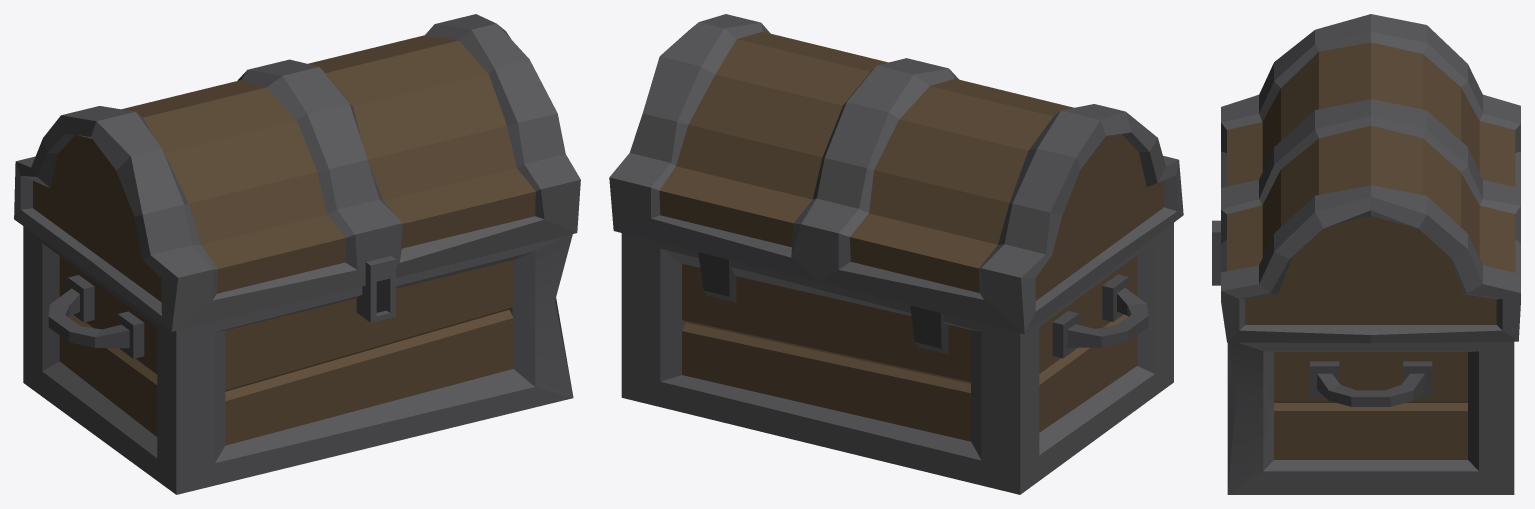
The model's file is SM_Prop_Chest_02.glb.
3 renders of one model, left to right at view 1: azimuth 30°, elevation 25°; view 2: azimuth 150°, elevation 25°; view 3: azimuth 270°, elevation 25°, orthographic. The views are drawn at different scales.
Parts seen in each view (by area): view 1: SM_Prop_Chest_Treasure_02; view 2: SM_Prop_Chest_Treasure_02; view 3: SM_Prop_Chest_Treasure_02.
Boxes of the visible parts, x1,y1,x2,y2 form: SM_Prop_Chest_Treasure_02: (14,14,580,494); SM_Prop_Chest_Treasure_02: (609,14,1183,494); SM_Prop_Chest_Treasure_02: (1212,14,1520,494).
Size of the model in its own units: 0.0106 by 0.00671 by 0.0063.
